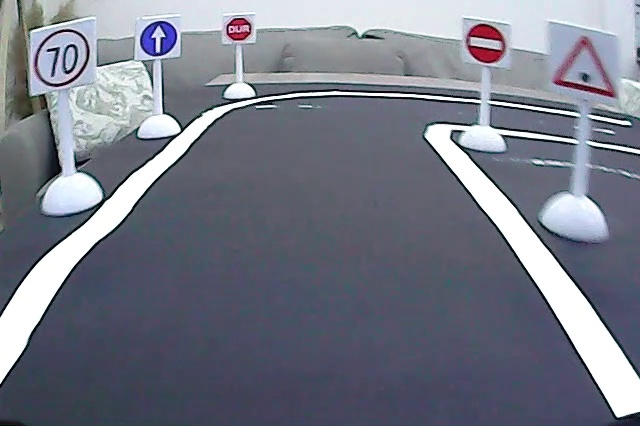do not enter: (464, 20, 508, 65)
green light: (549, 31, 620, 104)
speed limit 70: (31, 27, 93, 90)
stop sign: (224, 15, 254, 43)
